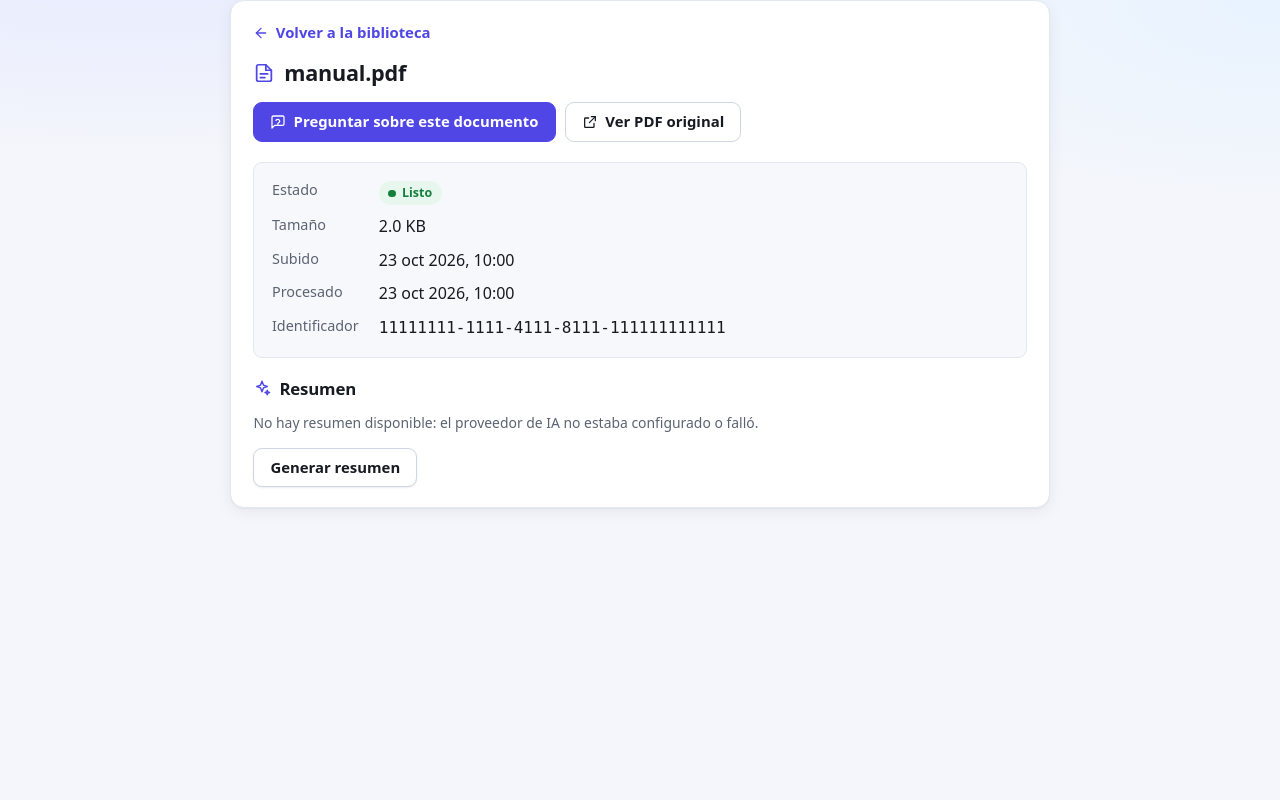
Scenario: DocumentPage › avisa si no se pudo generar el resumen
Click the button "Generar resumen" at [335, 468], box x1=253 y1=448 x2=417 y2=487
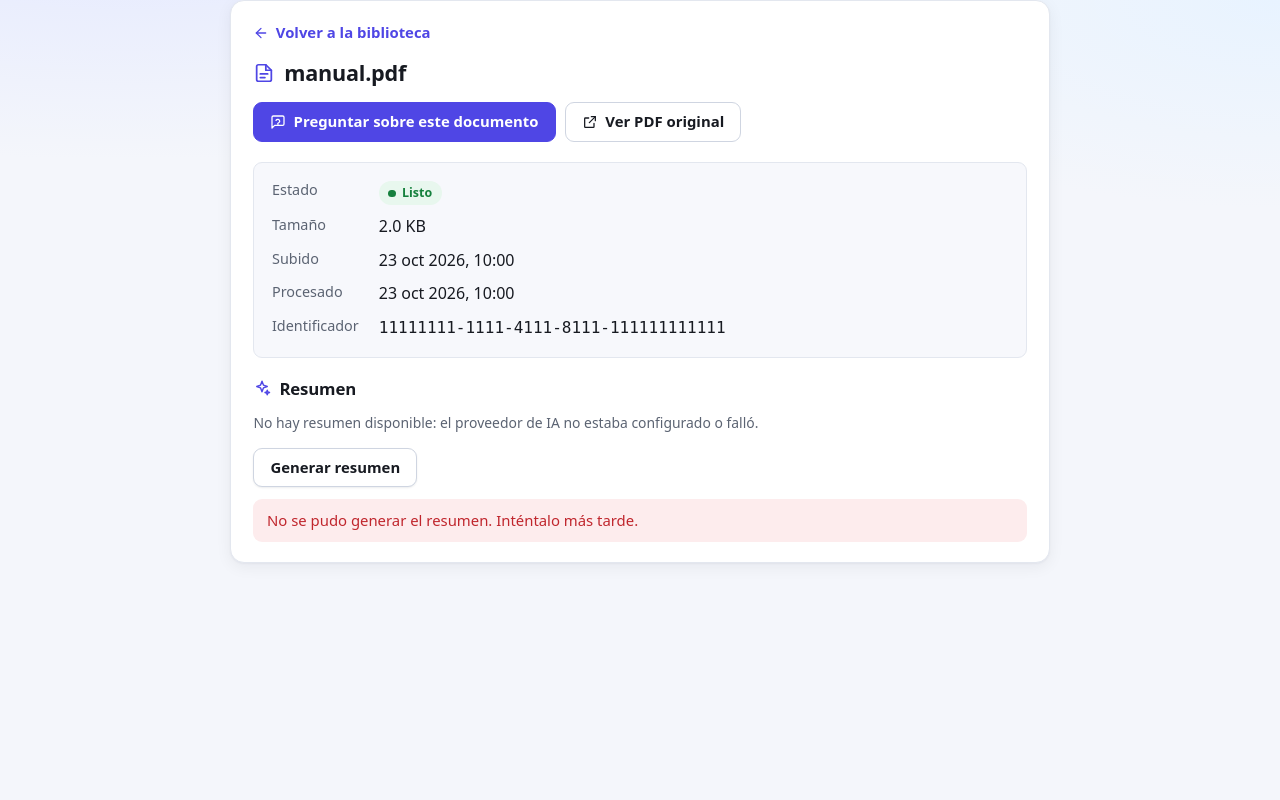
Result: the message shows "No se pudo generar el resumen" at x1=267 y1=510 x2=638 y2=530
